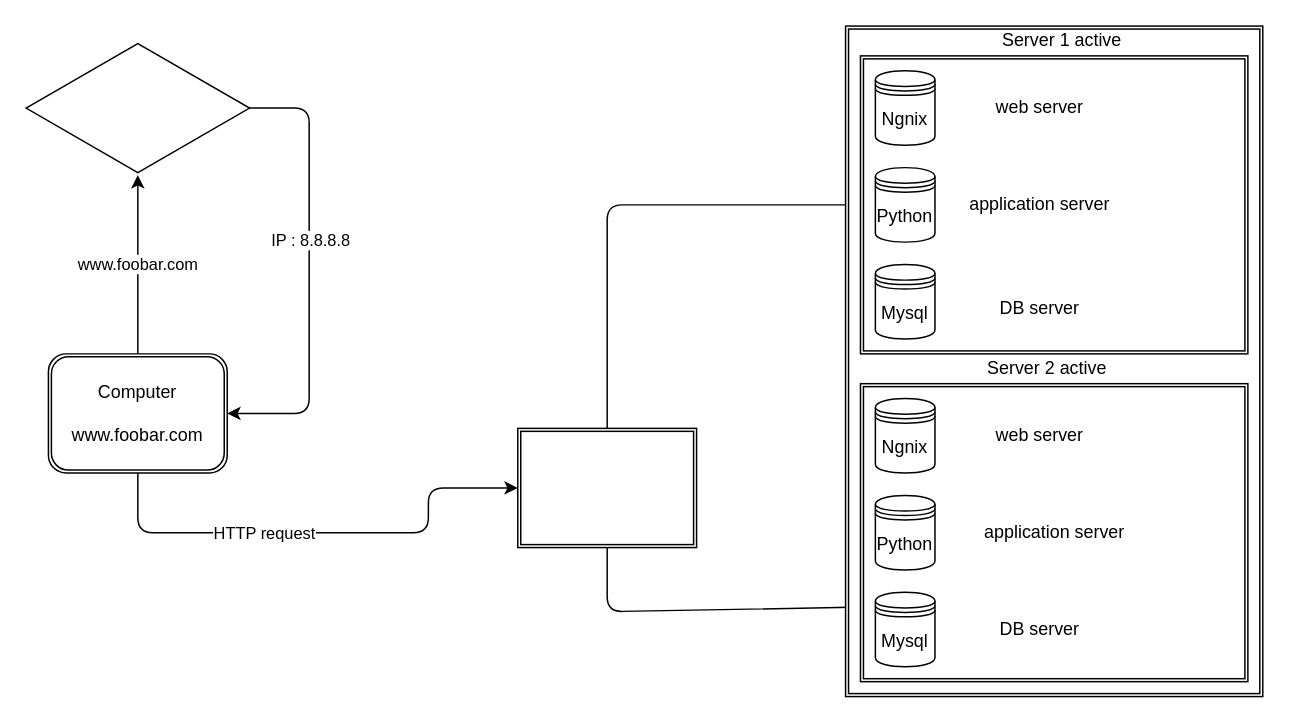
This 1289x723 diagram has some shape labels left out. Each missing label, with the box of its shape:
DNS: (25, 39, 250, 175)
load balancer: (516, 427, 697, 548)
